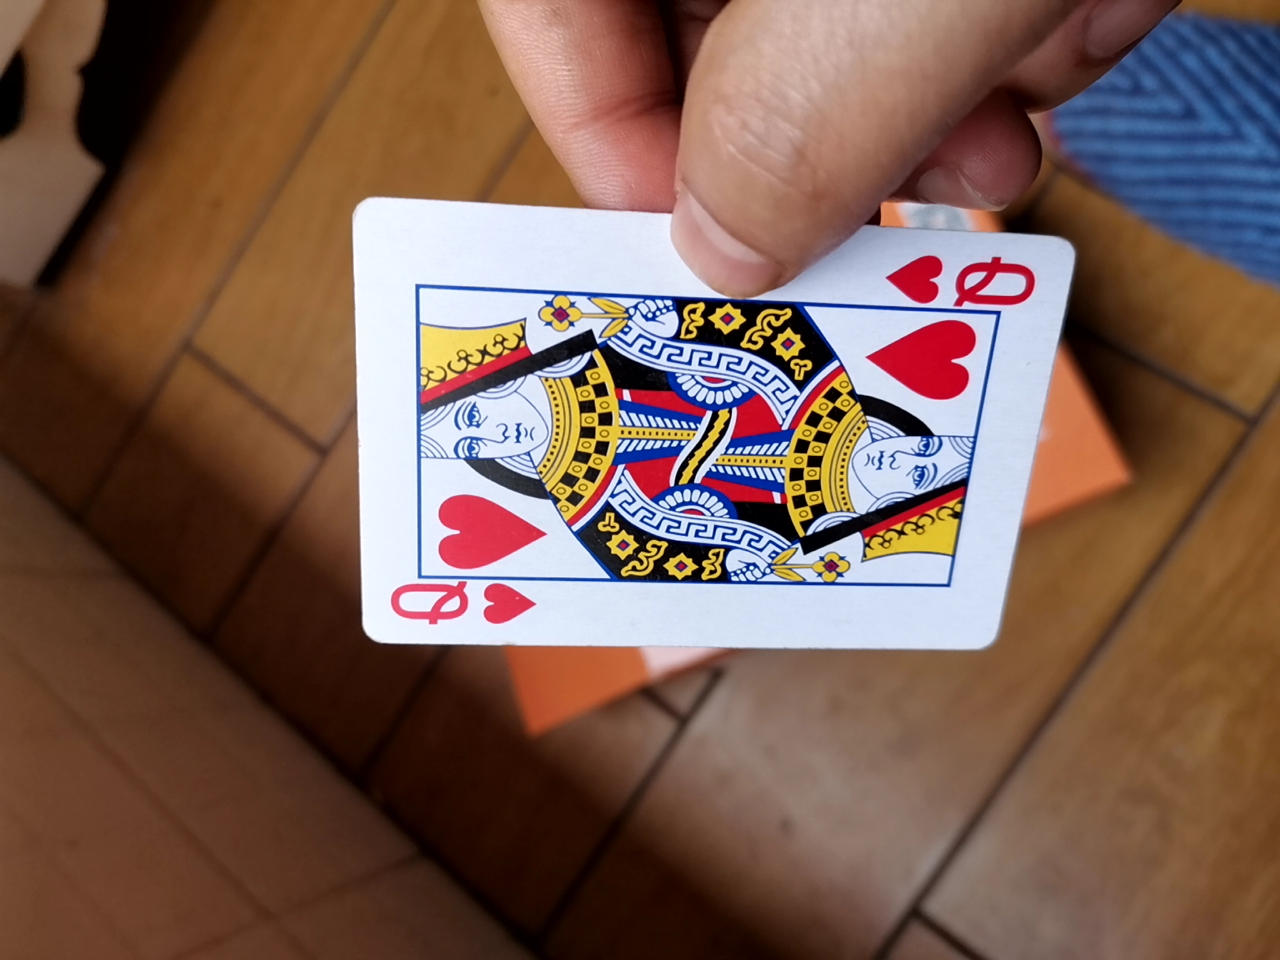hx q: (325, 193, 1065, 669)
